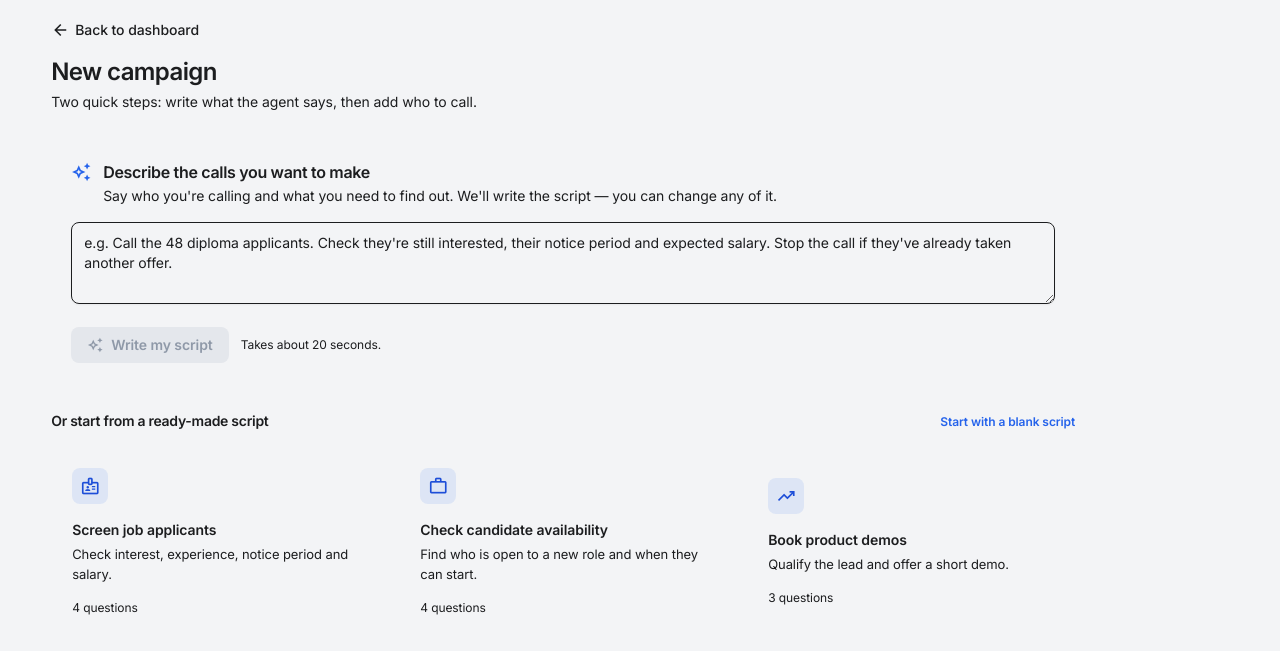
Scenario: starting a campaign › writes the script from a description
Type "Call our leads and ask if they want a demo next week." into the text box named "Describe your calls" at (563, 263), box [71, 222, 1055, 304]
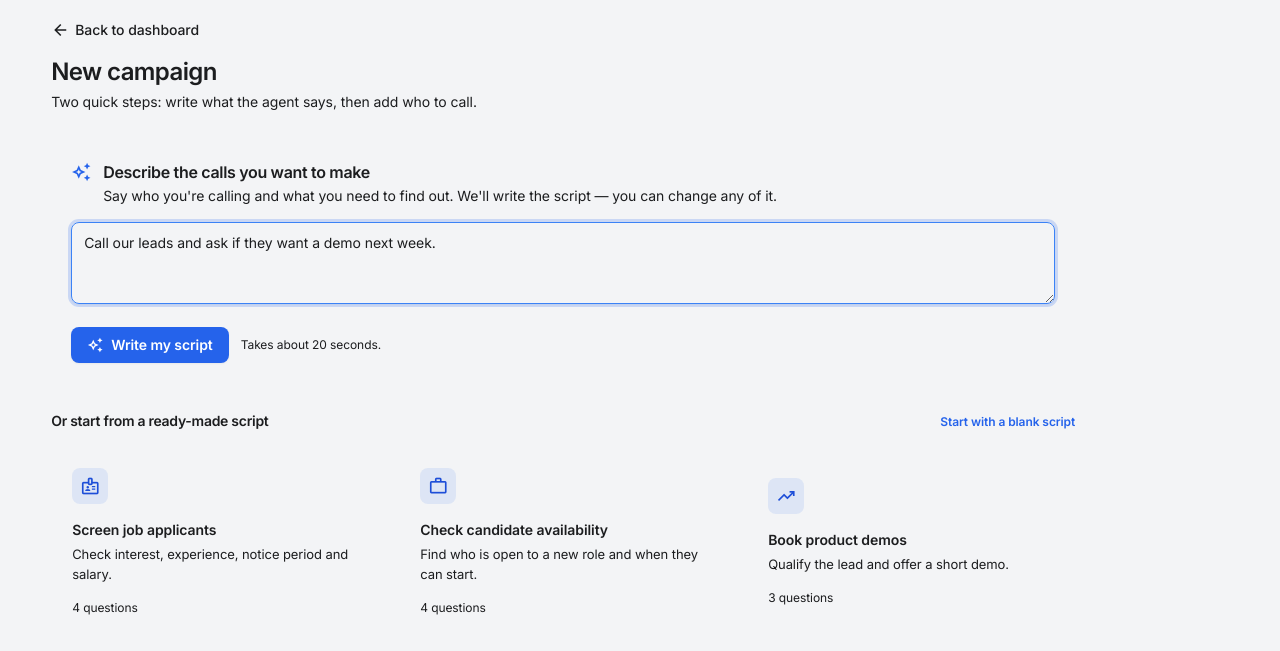
Click the button "Write my script" at (150, 345), box [71, 327, 229, 363]
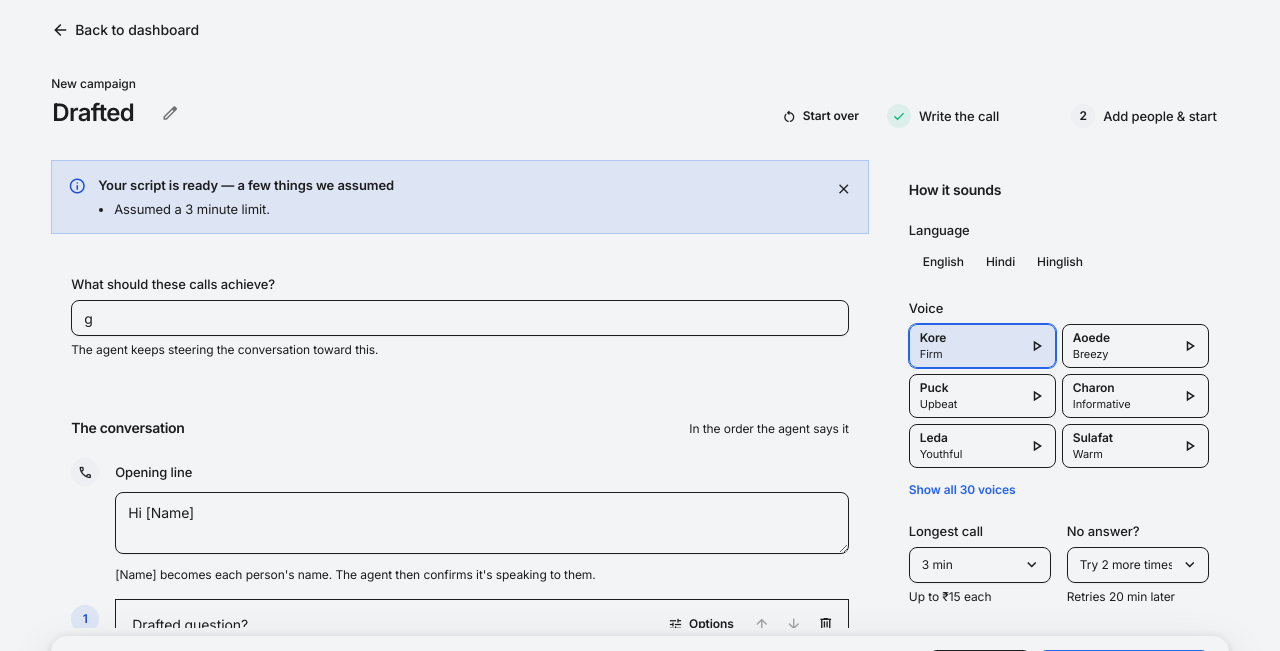
Result: the field named "Campaign name" holds "Drafted" at [43, 94, 171, 132]
Result: the field named "Question 1" holds "Drafted question?" at [122, 606, 650, 642]
Result: the list item "Assumed a 3 minute limit." is shown at [114, 201, 270, 217]
